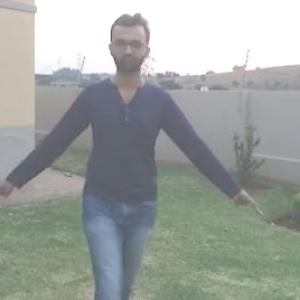land: (13, 22, 238, 299)
